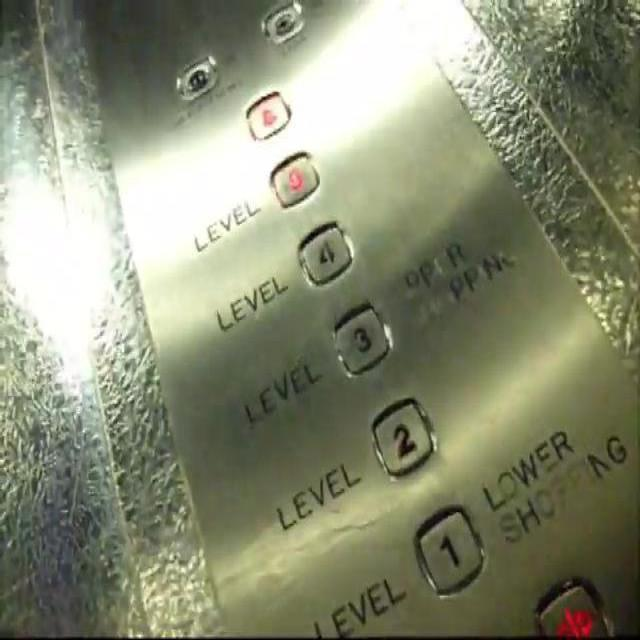1: (410, 498, 485, 598)
2: (370, 391, 439, 478)
3: (329, 300, 389, 381)
4: (297, 221, 353, 287)
5: (266, 147, 320, 208)
alarm: (243, 84, 293, 141)
keyhole: (261, 1, 305, 48), (175, 55, 220, 100)
